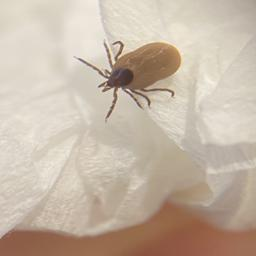Ixodes scapularis: (73, 43, 184, 123)
